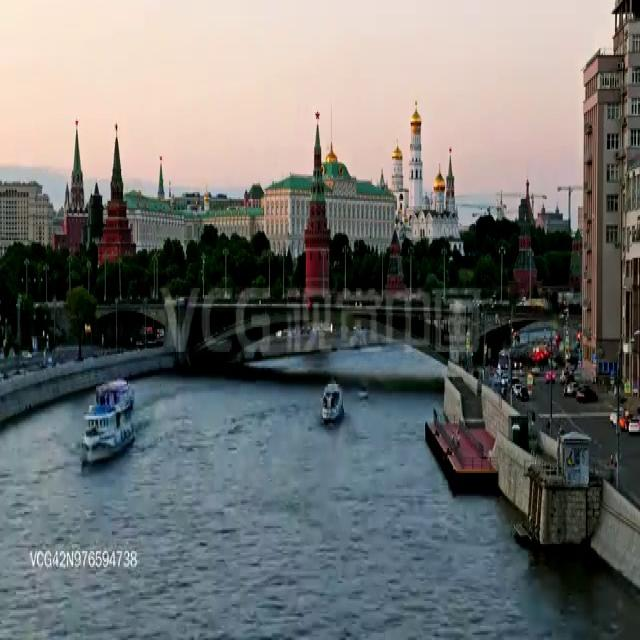passenger ship: (76, 377, 134, 459), (320, 378, 343, 426)
